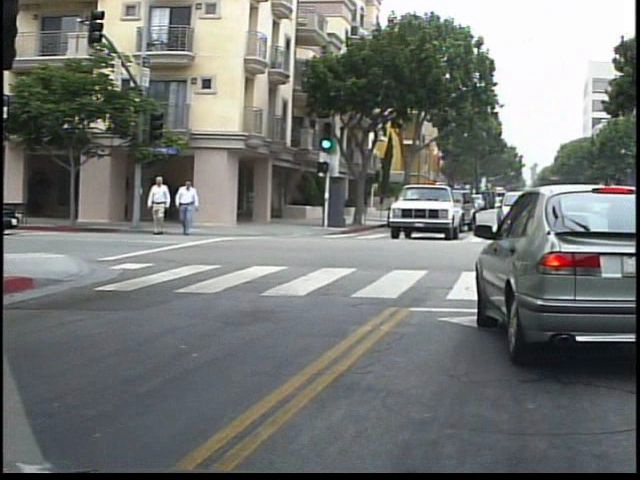person: (153, 174, 181, 242), (182, 174, 210, 240)
